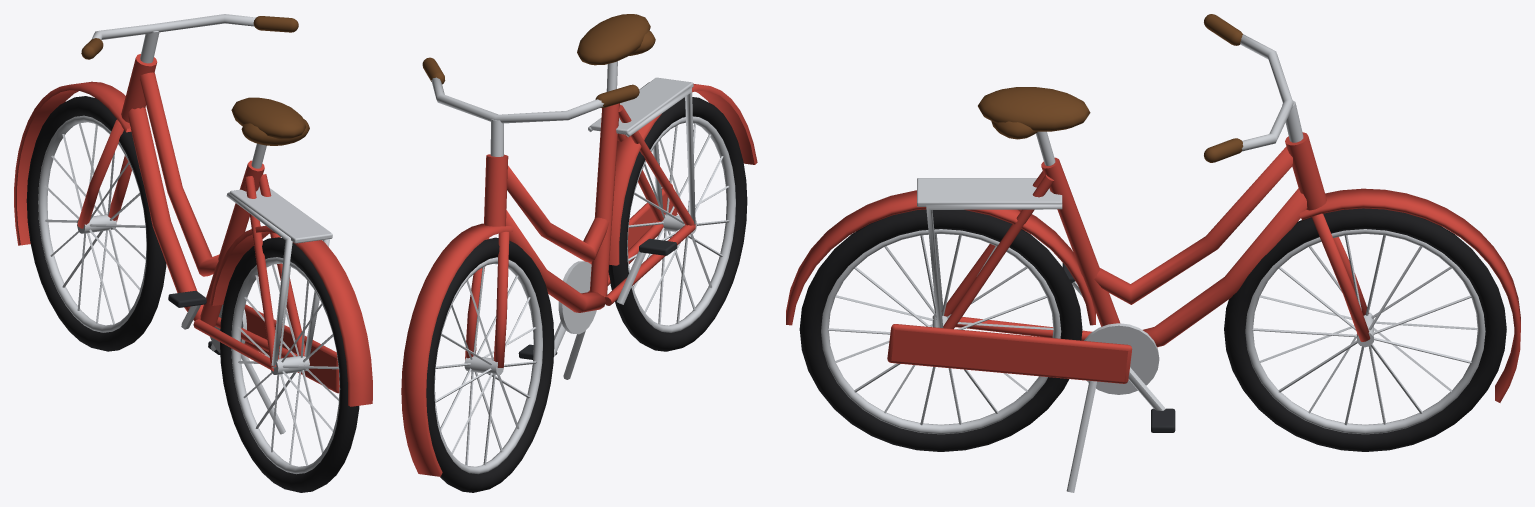
Rendered from bicycle_red.fbx.
3 renders of one model, left to right at view 1: azimuth 30°, elevation 25°; view 2: azimuth 150°, elevation 25°; view 3: azimuth 270°, elevation 25°, orthographic. The views are drawn at different scales.
Visible parts, largest first — view 1: bicycle_red; view 2: bicycle_red; view 3: bicycle_red.
Boxes of the visible parts, x1=… form: bicycle_red: x1=14, y1=14, x2=372, y2=492; bicycle_red: x1=401, y1=14, x2=757, y2=492; bicycle_red: x1=786, y1=14, x2=1520, y2=492.
Bounding box in the file's own units: 0.6762 × 1.12 × 1.82.
